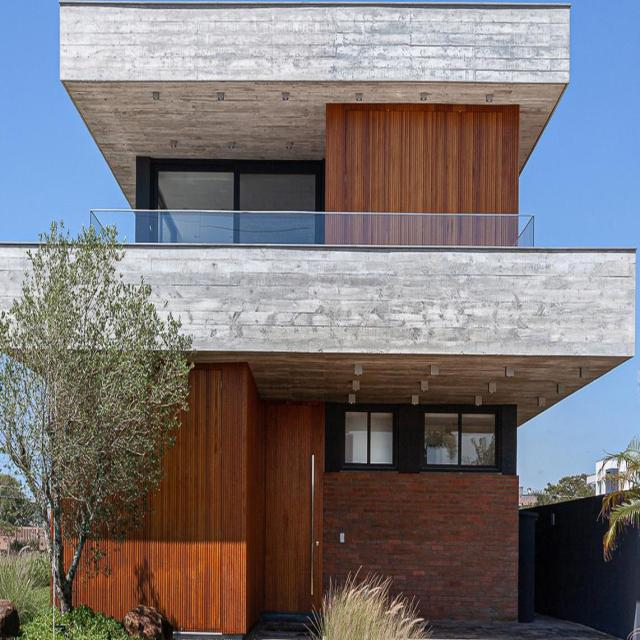door: (263, 408, 329, 610)
railing: (90, 205, 536, 254)
window: (345, 410, 504, 466), (153, 158, 323, 210)
